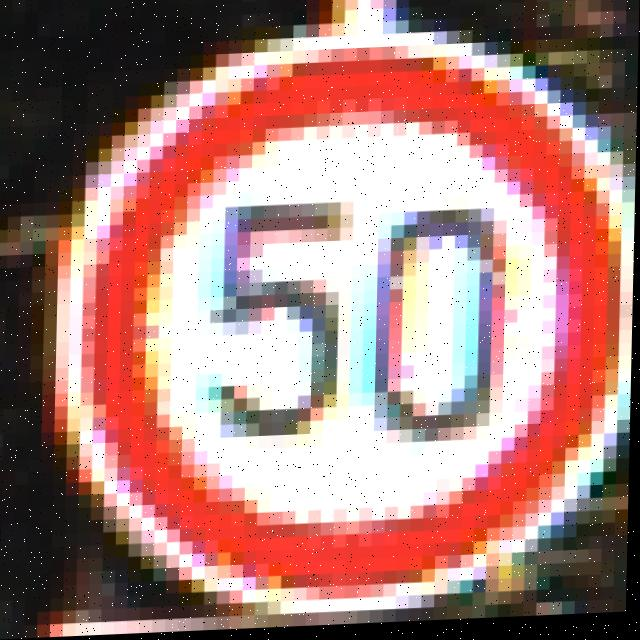speed_limit_50: (48, 17, 625, 620)
